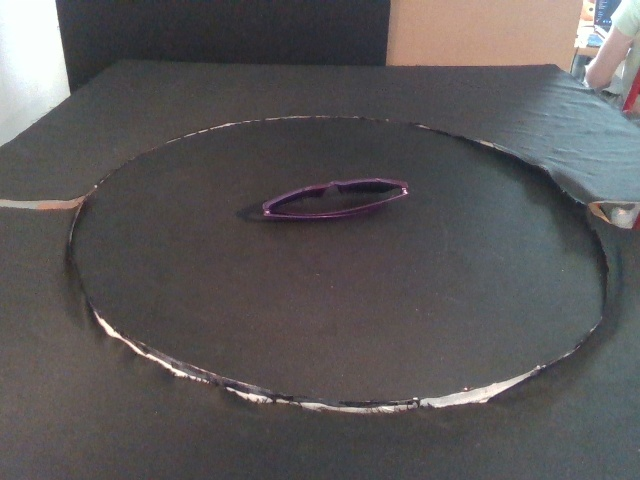glasses: (261, 176, 410, 221)
